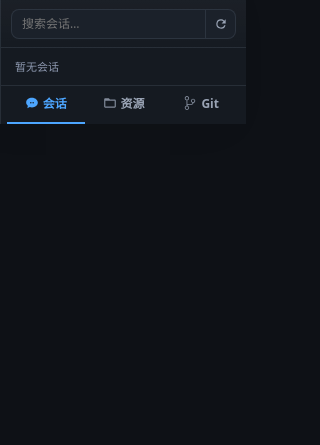
Scenario: RightPanel Tab 栏 › 切换到 Git 更改 Tab：底部高亮切换、加载 git 状态
This screenshot has width=320, height=445.
Click the tab "Git". click: click(201, 105)
box: x1=162 y1=86 x2=240 y2=124
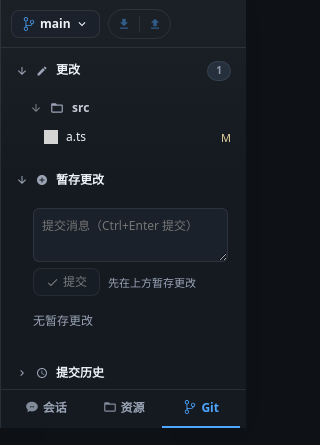
expect the element showing "main 更改 1 src a.ts M 暂存更改 提交 先在上方暂存更改 无暂存更改 提交历史" is shown: met
expect the element with class "git-view" shows "a.ts": met, box x1=66 y1=128 x2=86 y2=145
